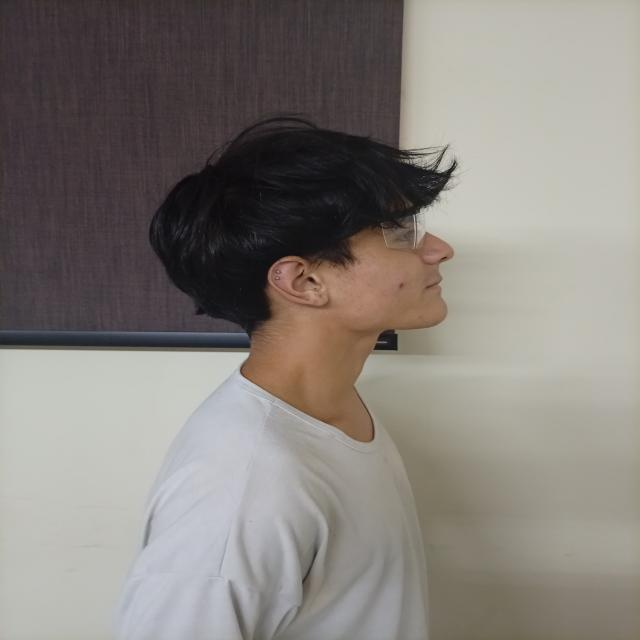oculos-epi: (253, 205, 425, 289)
